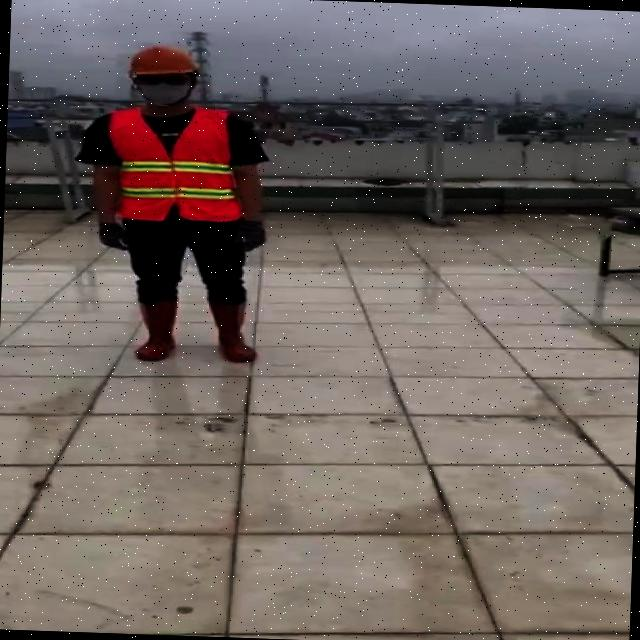boots: (204, 299, 260, 364), (132, 300, 182, 362)
